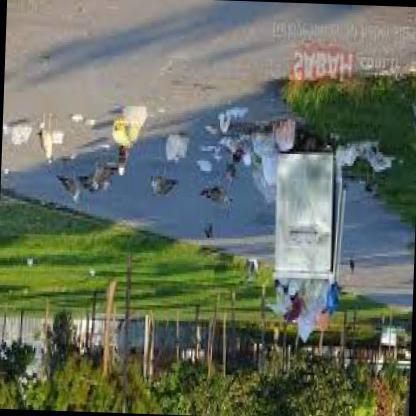Garbage: (264, 277, 343, 354), (254, 101, 300, 157), (350, 139, 408, 180), (213, 84, 256, 138), (118, 91, 154, 137), (196, 133, 223, 181), (290, 312, 326, 348), (166, 118, 195, 160), (270, 284, 296, 328), (296, 283, 326, 321), (8, 112, 30, 150), (71, 104, 95, 132)
